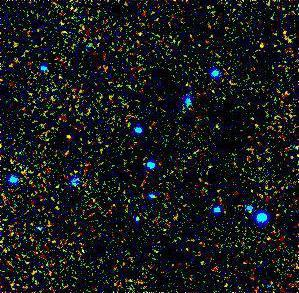star: (52, 118, 82, 148)
